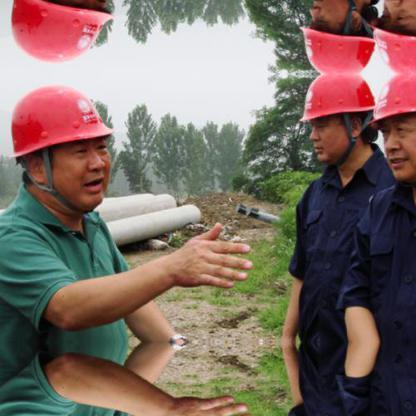helmet: (5, 82, 117, 160), (294, 72, 378, 129), (370, 71, 416, 131)
